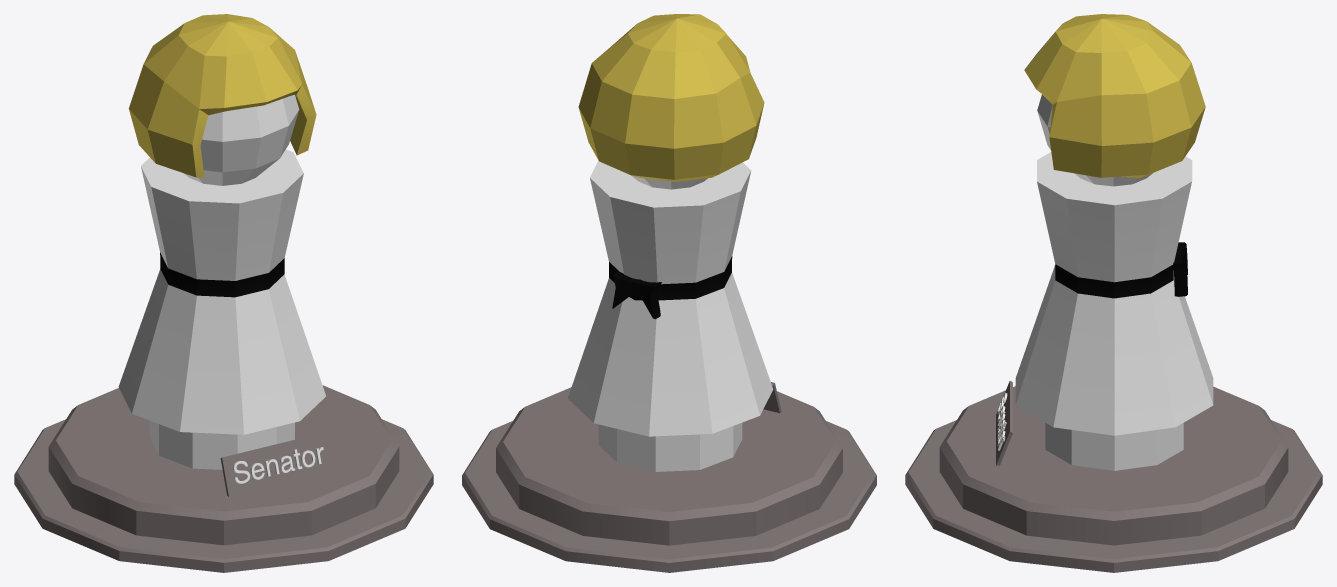
Rendered from senator.fbx.
The picture shows the model from 3 angles, left to right: view 1: azimuth 30°, elevation 25°; view 2: azimuth 150°, elevation 25°; view 3: azimuth 270°, elevation 25°; orthographic projection.
Visible parts, largest first — view 1: pCylinder10, pCylinder11, polySurface4, polySurface1, pCube17; view 2: pCylinder10, pCylinder11, polySurface4, pCube6; view 3: pCylinder10, pCylinder11, polySurface4, polySurface1, pCube6, pCube17.
Boxes of the visible parts, bbox=[...] form: pCylinder10: bbox=[14, 385, 433, 572]; pCylinder11: bbox=[118, 149, 325, 469]; polySurface4: bbox=[128, 14, 316, 177]; polySurface1: bbox=[184, 94, 299, 185]; pCube17: bbox=[220, 432, 333, 496]; pCylinder10: bbox=[462, 387, 876, 572]; pCylinder11: bbox=[567, 160, 773, 471]; polySurface4: bbox=[578, 14, 764, 181]; pCube6: bbox=[612, 271, 661, 319]; pCylinder10: bbox=[905, 386, 1322, 572]; pCylinder11: bbox=[1015, 152, 1213, 470]; polySurface4: bbox=[1024, 14, 1205, 177]; polySurface1: bbox=[1037, 94, 1152, 186]; pCube6: bbox=[1173, 242, 1187, 296]; pCube17: bbox=[996, 381, 1012, 465].
Bounding box in the file's own units: 10.26 × 12.63 × 10.26.
